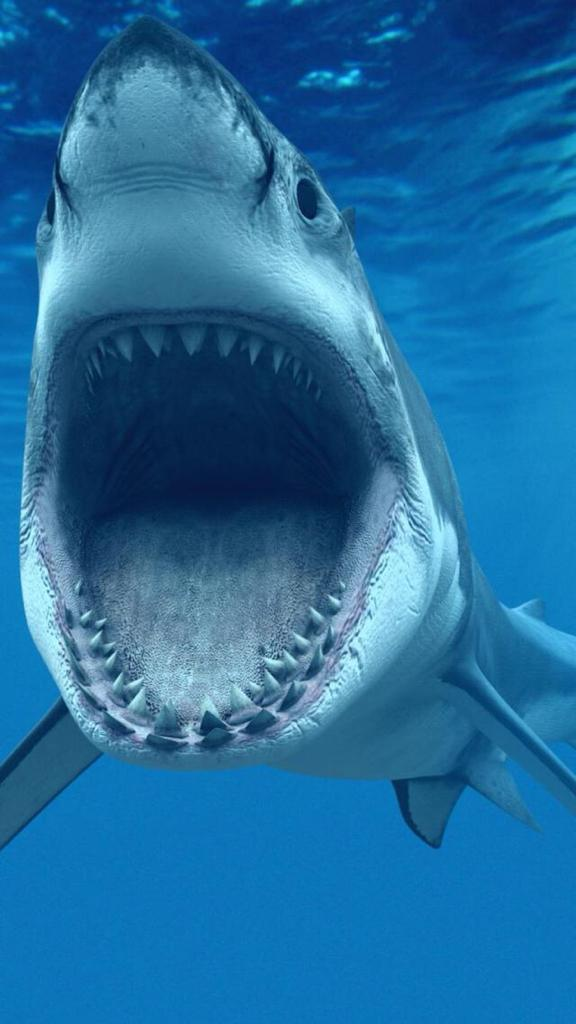fish: (1, 12, 576, 859)
